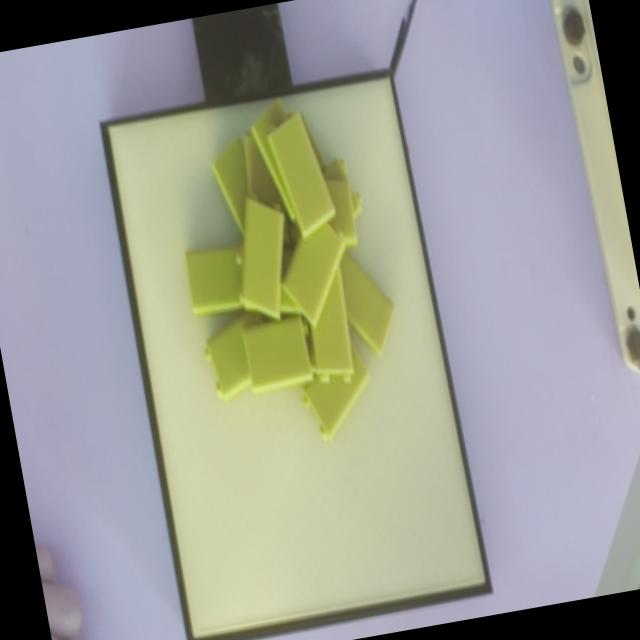bateria: (267, 110, 336, 236), (241, 316, 316, 392), (240, 190, 284, 317)
mesa: (98, 68, 492, 640)
